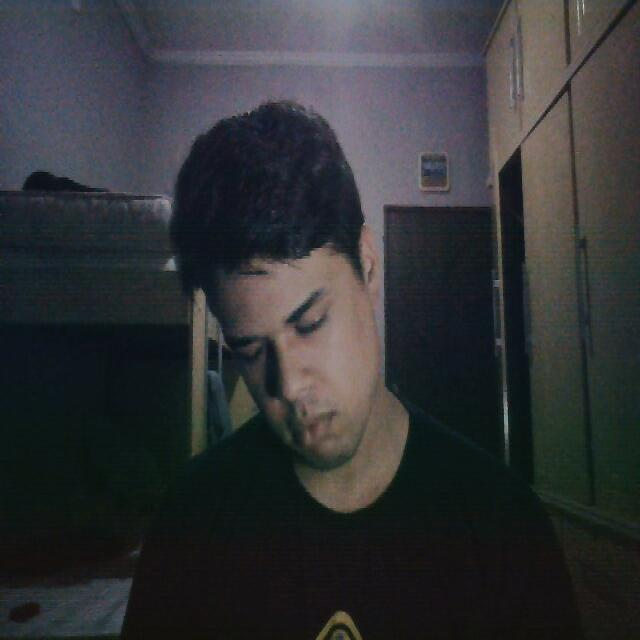sonolento: (184, 202, 408, 513)
